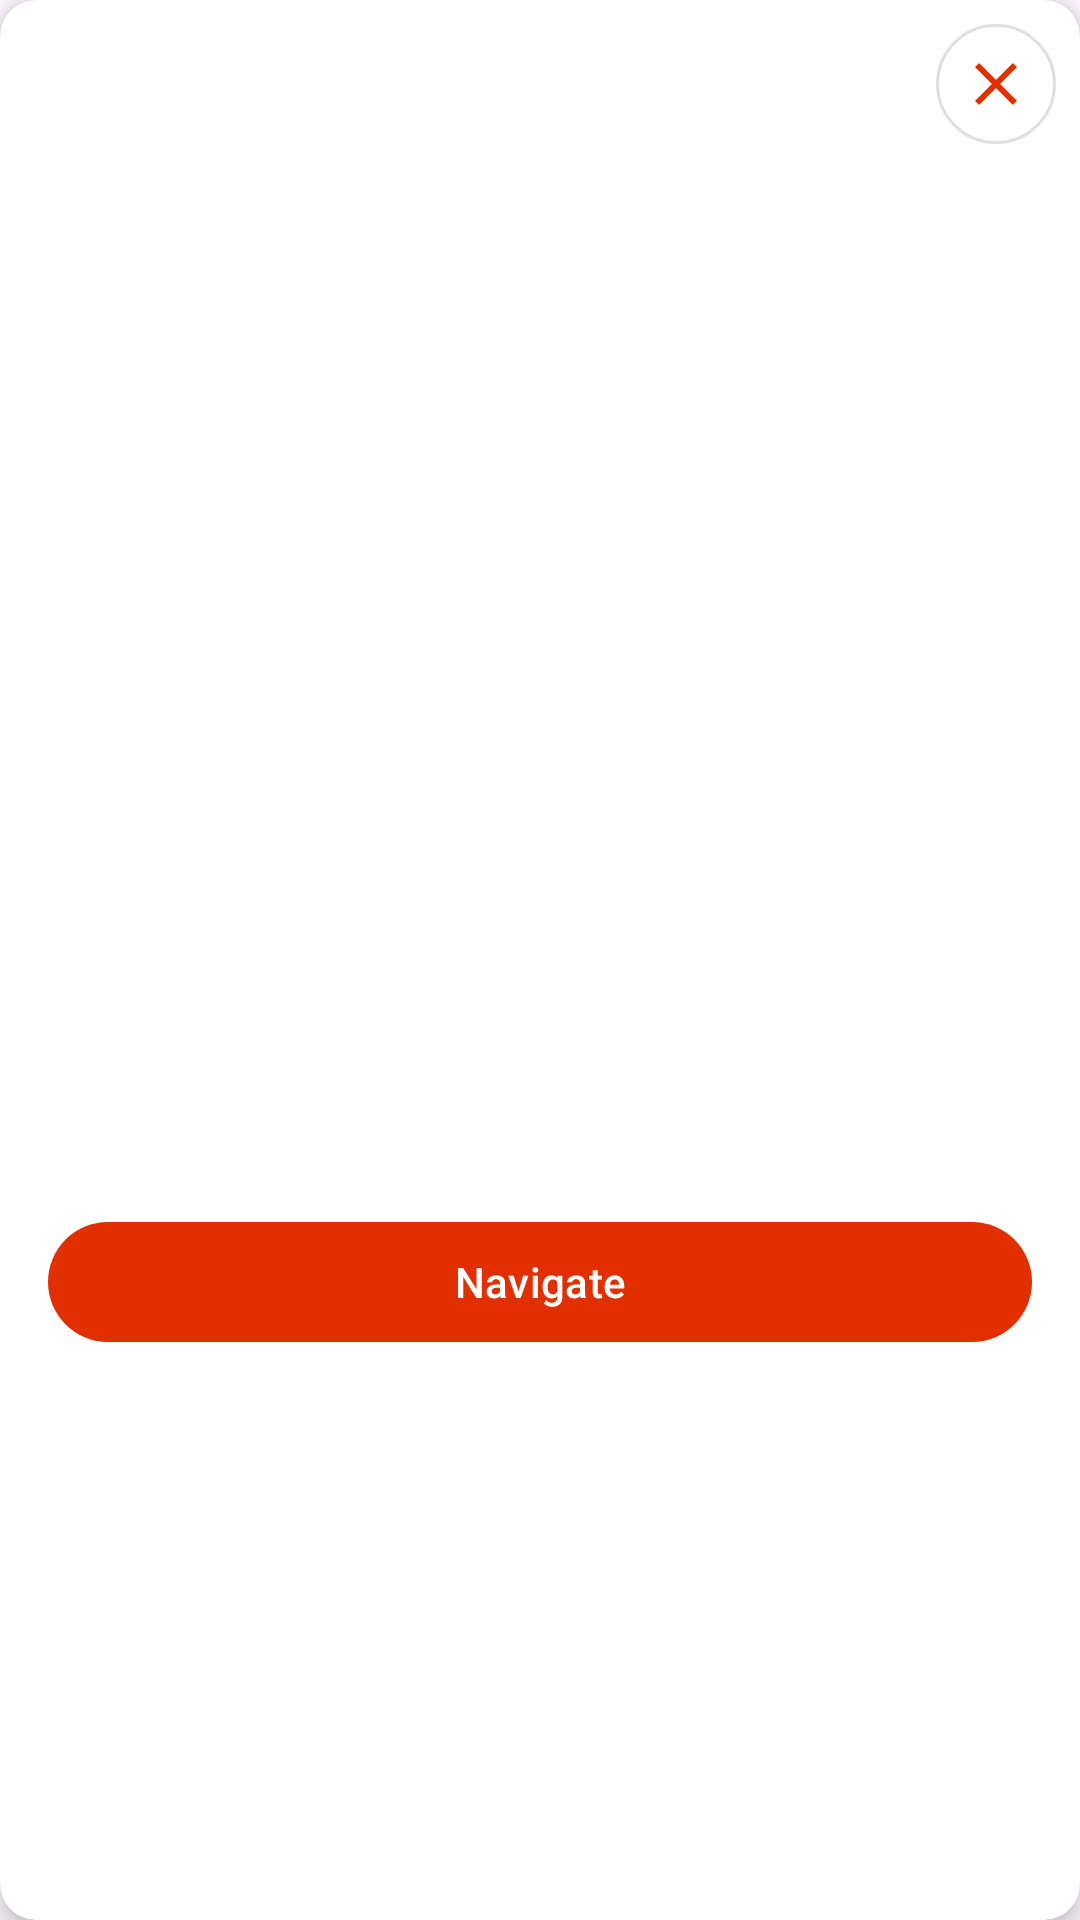

Icon click points for this 1080×1920 phone screenshot, format (x=x, y=y):
Close: (x=996, y=84)
